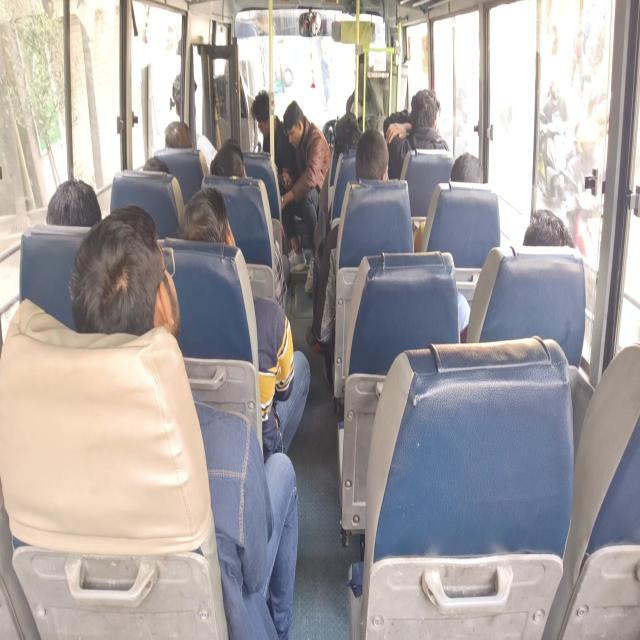person: (68, 204, 299, 638), (178, 185, 310, 461), (306, 129, 390, 353), (458, 208, 574, 341), (209, 139, 291, 309), (418, 152, 484, 334), (250, 88, 307, 271), (280, 100, 332, 293), (384, 88, 449, 180), (250, 88, 297, 196), (166, 72, 218, 169), (46, 178, 101, 227), (522, 208, 574, 247), (209, 140, 247, 178), (450, 152, 483, 184), (164, 120, 193, 149), (142, 156, 170, 173)
